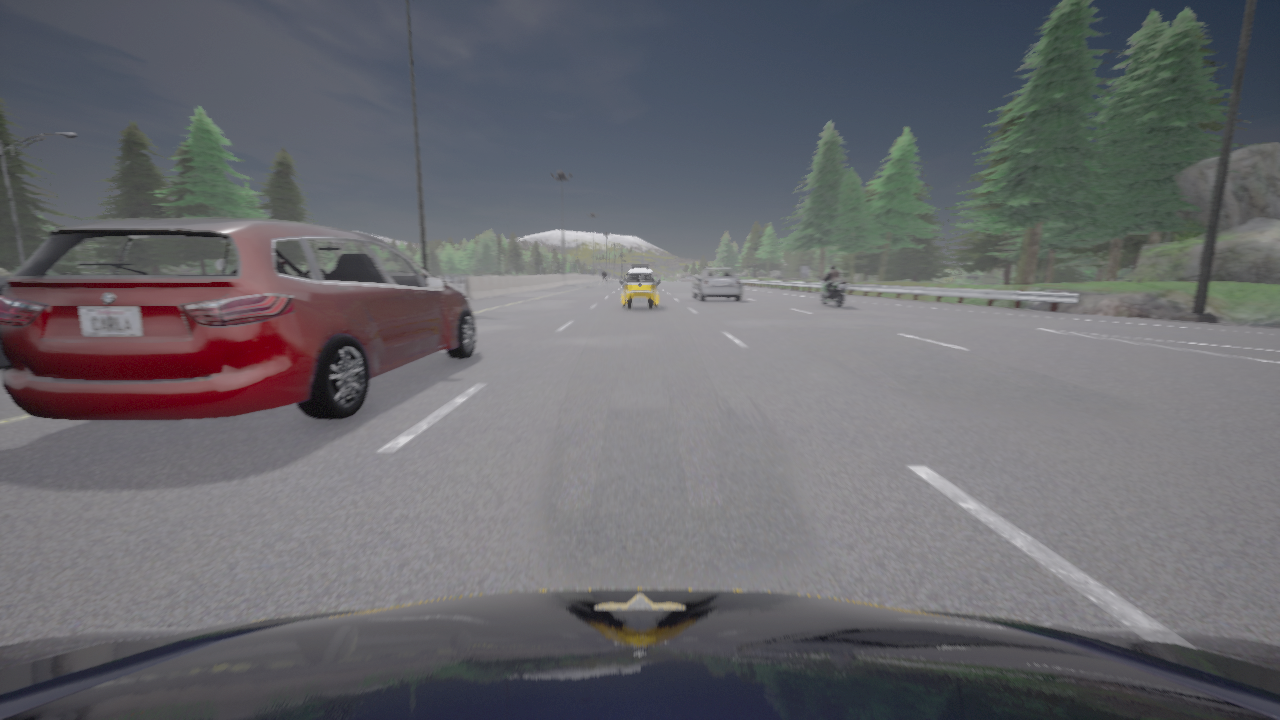cyclist: (0, 588, 1279, 719), (0, 218, 476, 420), (692, 268, 742, 301), (620, 269, 659, 309), (817, 275, 847, 307), (631, 265, 649, 269), (603, 279, 605, 287)
